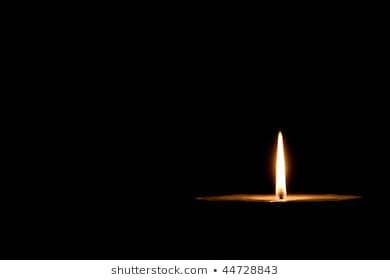fire: (272, 129, 289, 198)
